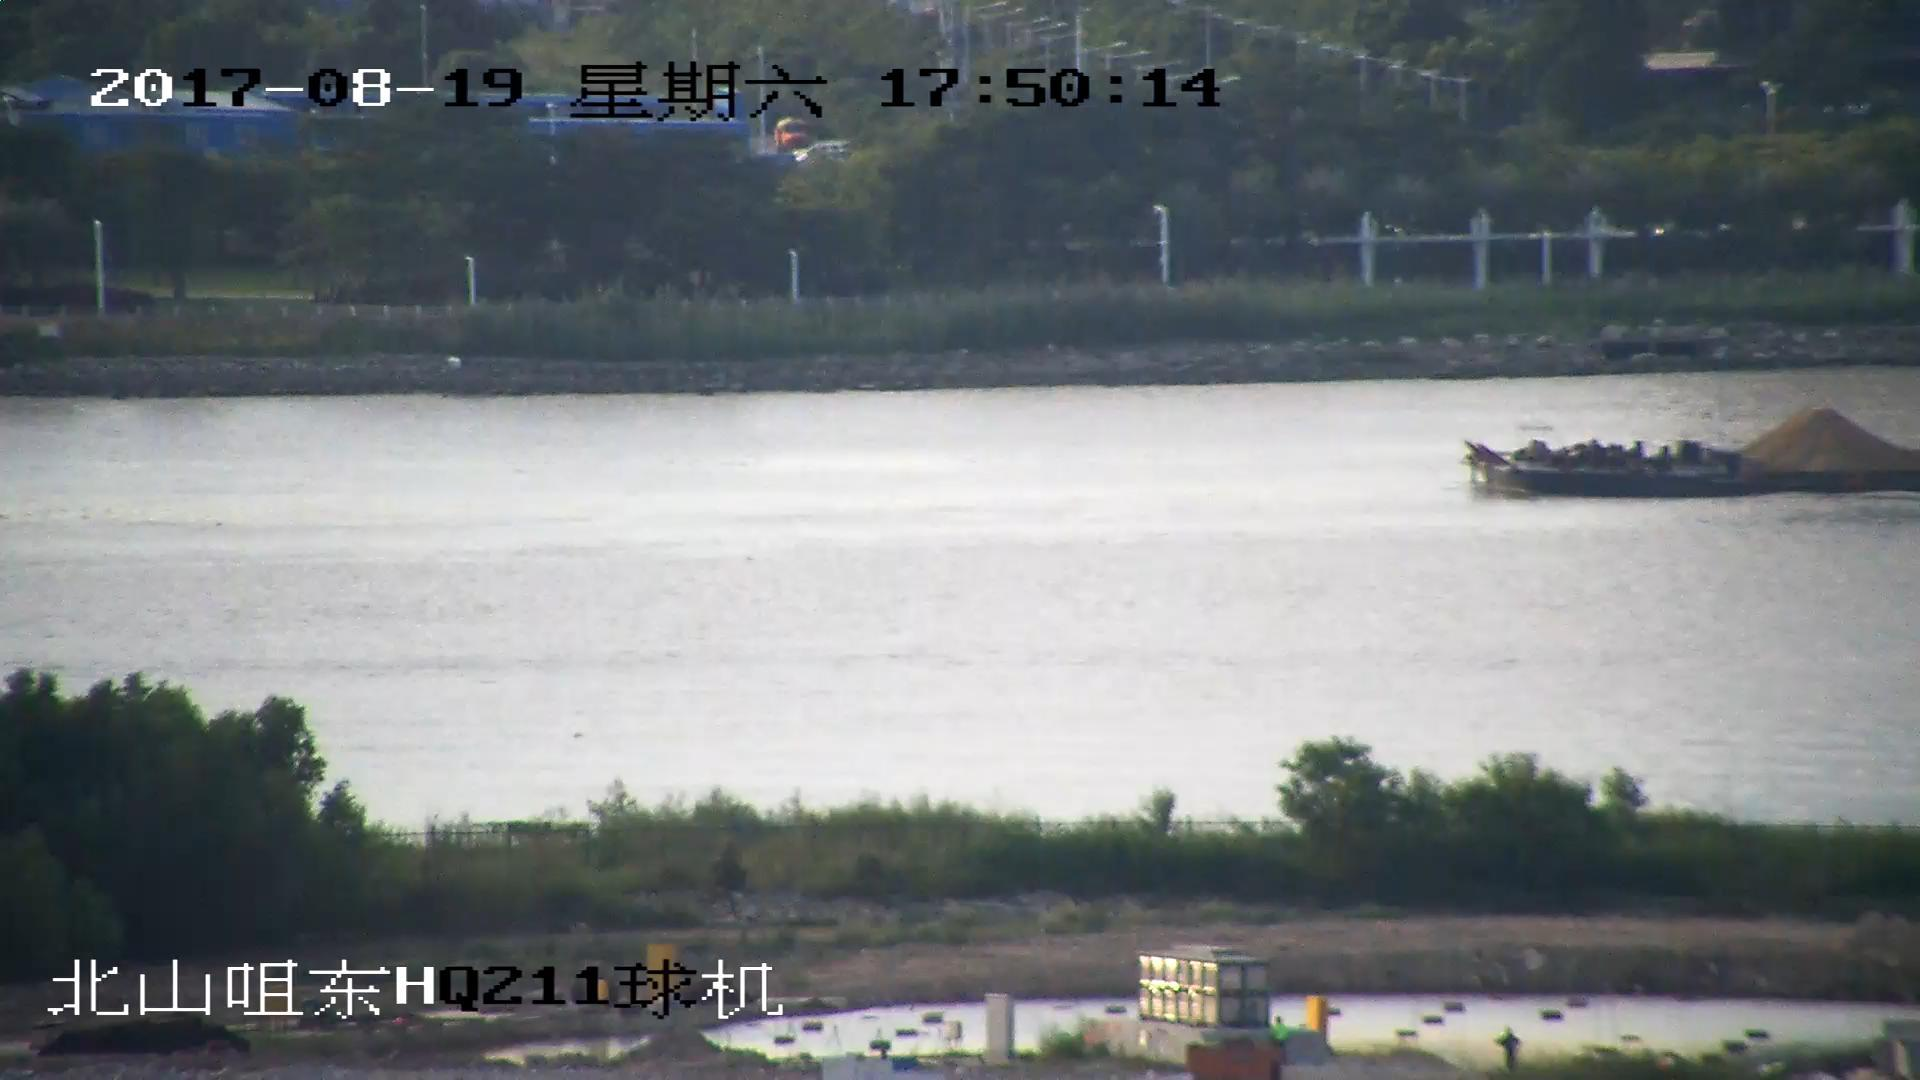Ship: (1462, 407, 1920, 502)
